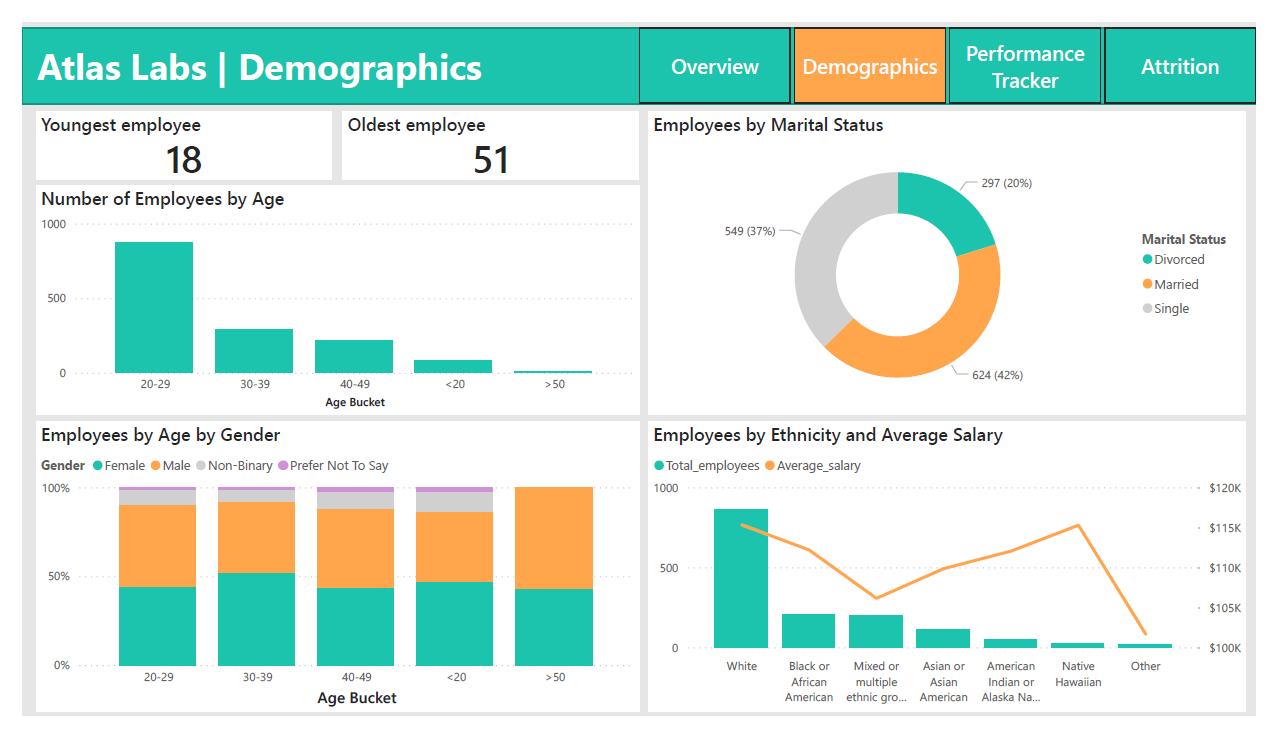

The page's visual inventory and layout, read from the dashboard file:
{"tool":"powerbi","page":{"name":"Demographics","canvas":[1280,720],"ordinal":1},"visuals":[{"type":"card","title":"Youngest employee","fields":{"Values":["Min(Dim_Employee.Age)"]},"box":[14.3,93.3,307,70],"z":0},{"type":"card","title":"Oldest employee","fields":{"Values":["Max(Dim_Employee.Age)"]},"box":[332.9,93.3,307.1,70],"z":1000},{"type":"clusteredColumnChart","title":"Number of Employees by Age","fields":{"Category":["Dim_Employee.AgeBucket"],"Y":["_Measures.Total_employees"]},"box":[14.3,170,625.7,237.1],"z":2000},{"type":"hundredPercentStackedColumnChart","title":"Employees by Age by Gender","fields":{"Category":["Dim_Employee.AgeBucket"],"Y":["_Measures.Total_employees"],"Series":["Dim_Employee.Gender"]},"box":[14.3,414.3,625.7,301.4],"z":3000},{"type":"donutChart","title":"Employees by Marital Status","fields":{"Series":["Dim_Employee.MaritalStatus"],"Y":["_Measures.Total_employees"]},"box":[650,92.9,620,314.3],"z":4000},{"type":"lineClusteredColumnComboChart","title":"Employees by Ethnicity and Average Salary","fields":{"Y":["_Measures.Total_employees"],"Category":["Dim_Employee.Ethnicity"],"Y2":["_Measures.Average_salary"]},"box":[650,414.3,620,301.4],"z":5000},{"type":"shape","title":"Atlas Labs | Performance Tracker","box":[0,5.7,1280,78.6],"z":5001},{"type":"pageNavigator","box":[640,5.7,640,78.6],"z":5002}]}

Visuals, with their boxes in screenshot pixels (x1, y1, x2, y2), scaled from the page's 1280x720 canvas onto the 1278x737 screenshot:
"Youngest employee" card: bbox=(14, 96, 321, 167)
"Oldest employee" card: bbox=(332, 96, 639, 167)
"Number of Employees by Age" clusteredColumnChart: bbox=(14, 174, 639, 417)
"Employees by Age by Gender" hundredPercentStackedColumnChart: bbox=(14, 424, 639, 733)
"Employees by Marital Status" donutChart: bbox=(649, 95, 1268, 417)
"Employees by Ethnicity and Average Salary" lineClusteredColumnComboChart: bbox=(649, 424, 1268, 733)
"Atlas Labs | Performance Tracker" shape: bbox=(0, 6, 1277, 86)
pageNavigator: bbox=(639, 6, 1277, 86)
